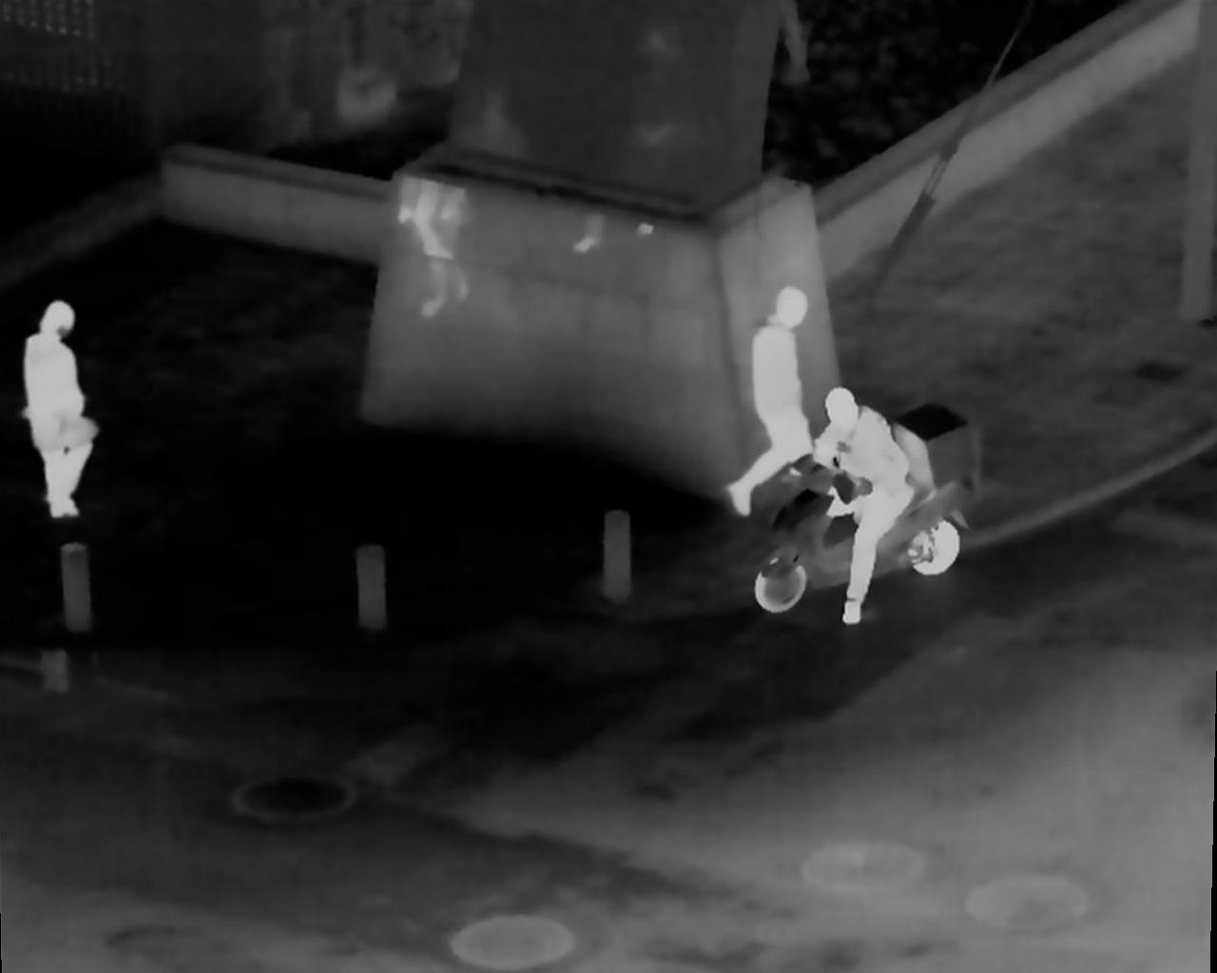person: (810, 387, 916, 625), (14, 303, 104, 507), (740, 286, 815, 520)
